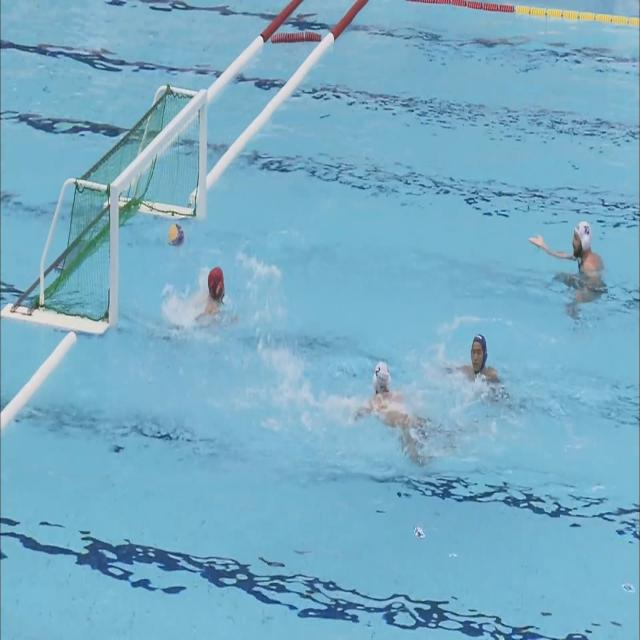ball: (168, 224, 184, 246)
